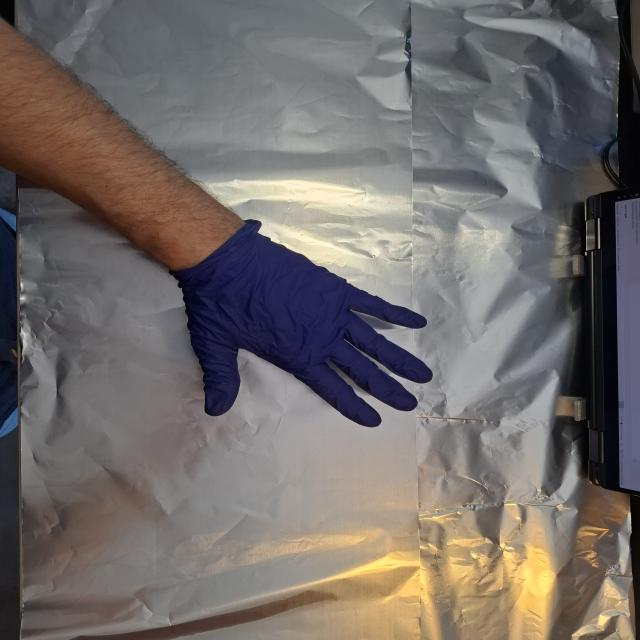glove_on: (171, 216, 437, 429)
